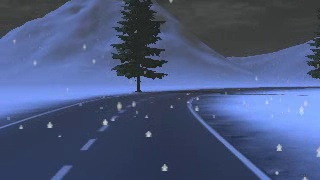Lane: (1, 87, 307, 179)
